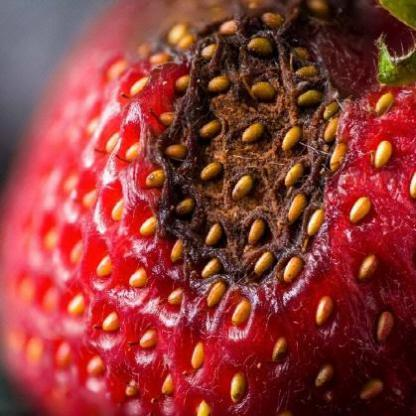Strawberry_Anthracnose_Fruit_Rot: (95, 0, 415, 342)
